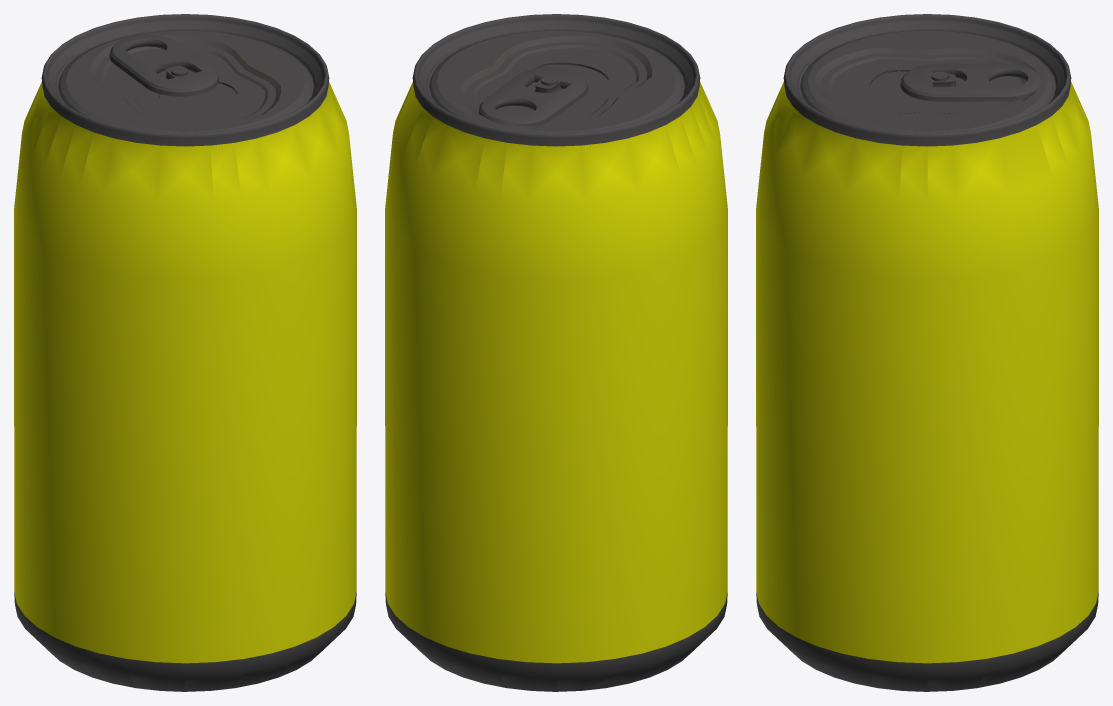
Rendered from can.glb.
The picture shows the model from 3 angles, left to right: view 1: azimuth 30°, elevation 25°; view 2: azimuth 150°, elevation 25°; view 3: azimuth 270°, elevation 25°; orthographic projection.
Parts seen in each view (by area): view 1: Can, Can_02 - Default_0; view 2: Can, Can_02 - Default_0; view 3: Can, Can_02 - Default_0.
Boxes of the visible parts, x1=… form: Can: x1=14, y1=52, x2=356, y2=663; Can_02 - Default_0: x1=14, y1=14, x2=356, y2=691; Can: x1=385, y1=52, x2=727, y2=663; Can_02 - Default_0: x1=385, y1=14, x2=727, y2=691; Can: x1=756, y1=71, x2=1098, y2=663; Can_02 - Default_0: x1=756, y1=14, x2=1098, y2=691.
Bounding box in the file's own units: 0.6282 × 1.13 × 0.6281.
